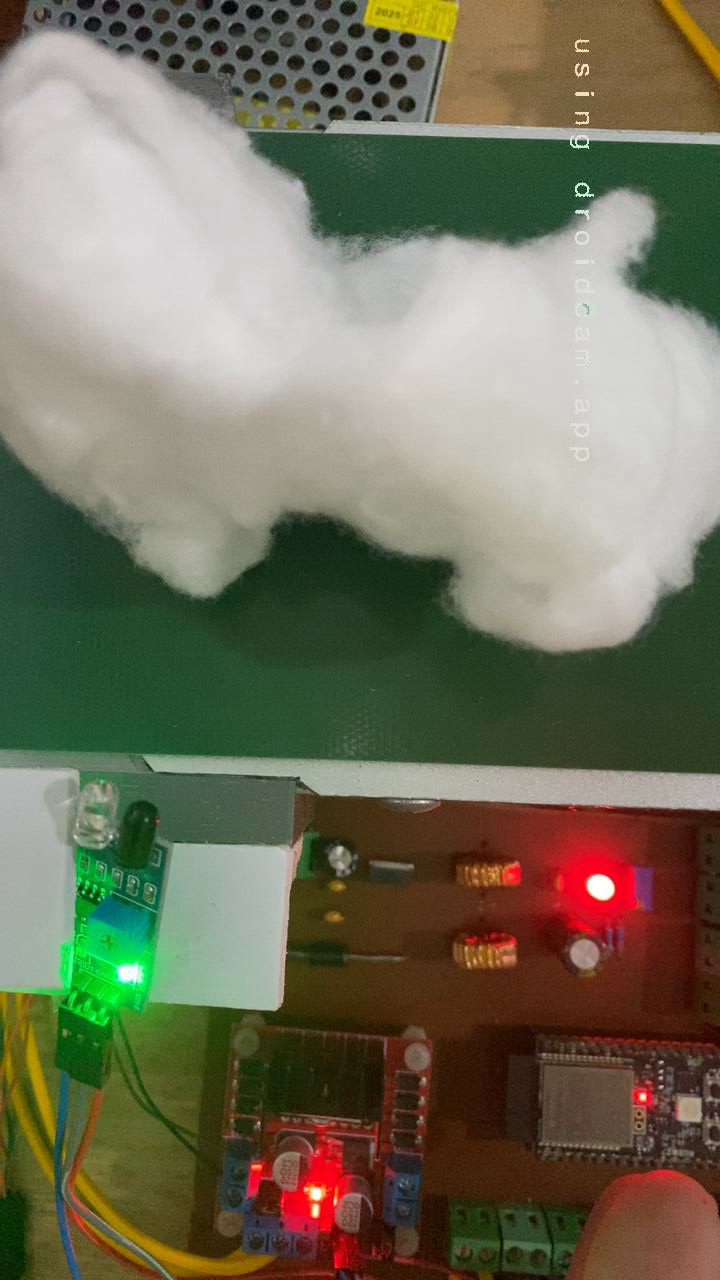cotton: (0, 138, 720, 663)
